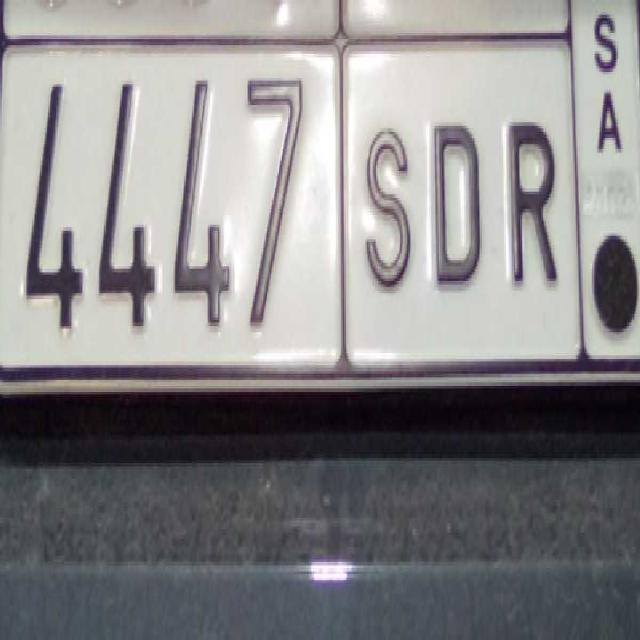license_plate: (19, 34, 569, 377)
